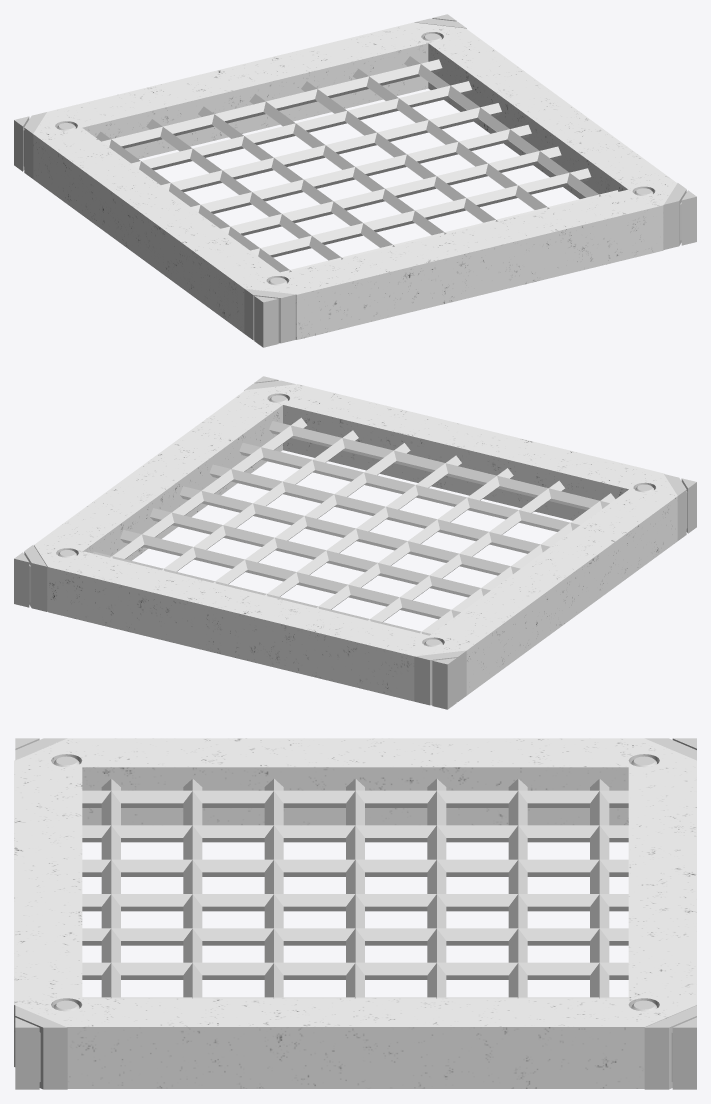
The model's file is floor3.fbx.
The picture shows the model from 3 angles, top to bottom: view 1: azimuth 30°, elevation 25°; view 2: azimuth 150°, elevation 25°; view 3: azimuth 270°, elevation 25°; orthographic projection. The views are drawn at different scales.
Visible parts, largest first — view 1: fragfloor; view 2: fragfloor; view 3: fragfloor.
Boxes of the visible parts, <box> form: fragfloor: <box>14,14,696,347</box>; fragfloor: <box>14,376,696,709</box>; fragfloor: <box>14,738,696,1089</box>.
Size of the model in its own units: 4.01 by 0.4 by 4.
